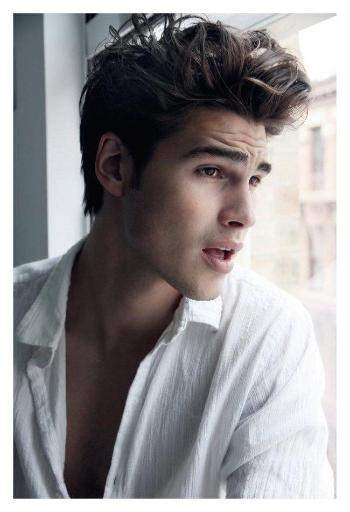left_eye: (249, 174, 261, 189)
left_lip_corner: (229, 251, 241, 261)
right_eye: (193, 163, 226, 182)
right_lip_corner: (196, 240, 213, 260)
